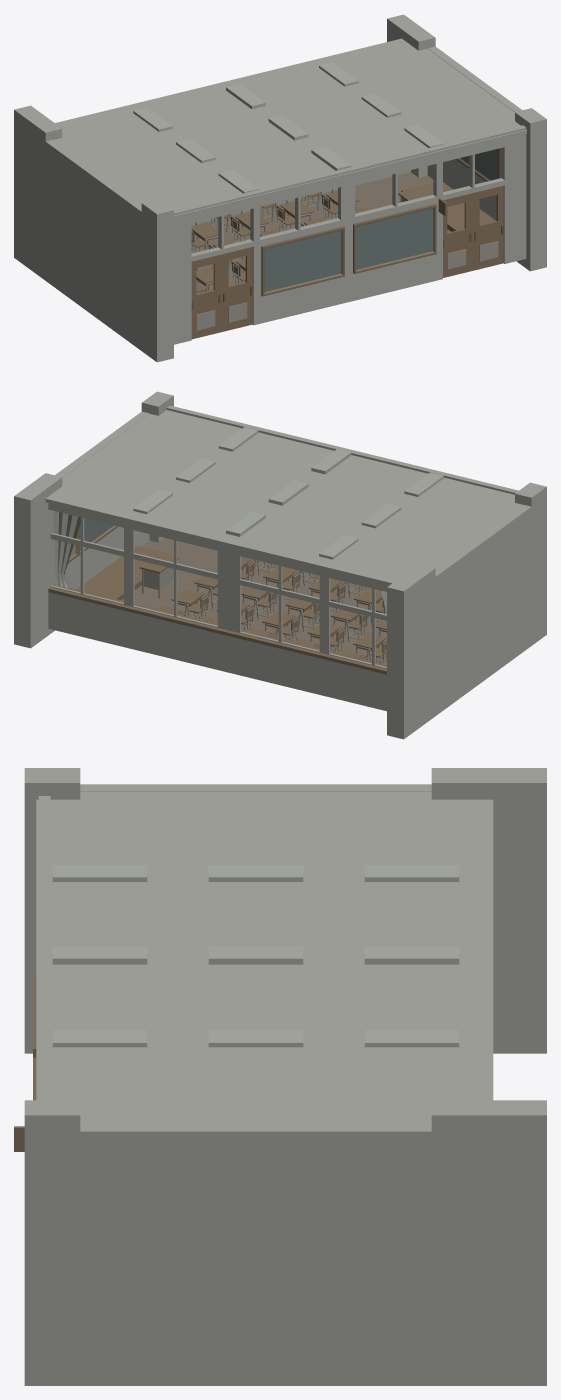
Rendered from school_classroom1.fbx.
3 renders of one model, top to bottom at view 1: azimuth 30°, elevation 25°; view 2: azimuth 150°, elevation 25°; view 3: azimuth 270°, elevation 25°, orthographic. The views are drawn at different scales.
Parts seen in each view (by area): view 1: pPlane73, pPlane212, pPlane202, pPlane213, pPlane214, pPlane207, pPlane208, pPlane75, pPlane4, polySurface391, polySurface393, polySurface394 (+14 smaller); view 2: pPlane73, pPlane202, pPlane2, pPlane41, pPlane4, pPlane207, pPlane76, pPlane215, pPlane38, pPlane43, pPlane212, pPlane72 (+14 smaller); view 3: pPlane73, pPlane38, pPlane76, pPlane207, pPlane75, pPlane208, pPlane212, pPlane202, pPlane77, pPlane78, pPlane79, pPlane83 (+5 smaller).
Boxes of the visible parts, box(x1,y1,x2,y2) form: pPlane73: box(54, 38, 526, 219); pPlane212: box(174, 125, 526, 344); pPlane202: box(36, 135, 150, 357); pPlane213: box(261, 226, 344, 296); pPlane214: box(353, 204, 436, 273); pPlane207: box(14, 105, 62, 273); pPlane208: box(141, 199, 173, 362); pPlane75: box(515, 108, 546, 271); pPlane4: box(191, 172, 450, 293); polySurface391: box(472, 185, 503, 270); polySurface393: box(221, 247, 252, 331); polySurface394: box(191, 254, 221, 339); pPlane73: box(45, 410, 522, 585); pPlane202: box(426, 500, 540, 722); pPlane2: box(48, 592, 386, 711); pPlane41: box(50, 517, 386, 668); pPlane4: box(122, 538, 386, 664); pPlane207: box(387, 564, 435, 739); pPlane76: box(14, 473, 62, 648); pPlane215: box(48, 584, 386, 674); pPlane38: box(55, 411, 149, 589); pPlane43: box(48, 503, 388, 591); pPlane212: box(166, 405, 518, 494); pPlane72: box(77, 545, 173, 600); pPlane73: box(36, 791, 493, 1124); pPlane38: box(47, 1124, 464, 1385); pPlane76: box(431, 1100, 546, 1385); pPlane207: box(431, 768, 546, 1053); pPlane75: box(24, 1100, 80, 1385); pPlane208: box(24, 768, 80, 1053); pPlane212: box(38, 796, 50, 1100); pPlane202: box(80, 784, 431, 791); pPlane77: box(208, 946, 303, 964); pPlane78: box(364, 946, 459, 964); pPlane79: box(52, 946, 147, 964); pPlane83: box(364, 1030, 459, 1047).
Bounding box in the file's own units: 14.6 × 5.3 × 9.47.
